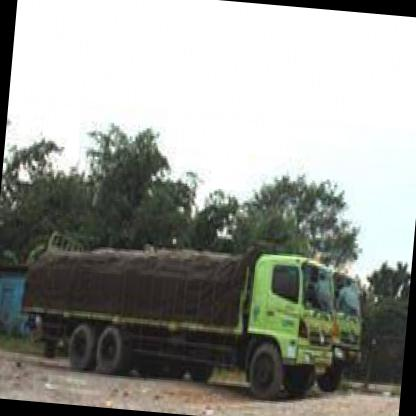truck: (239, 256, 342, 405), (313, 271, 369, 398)
